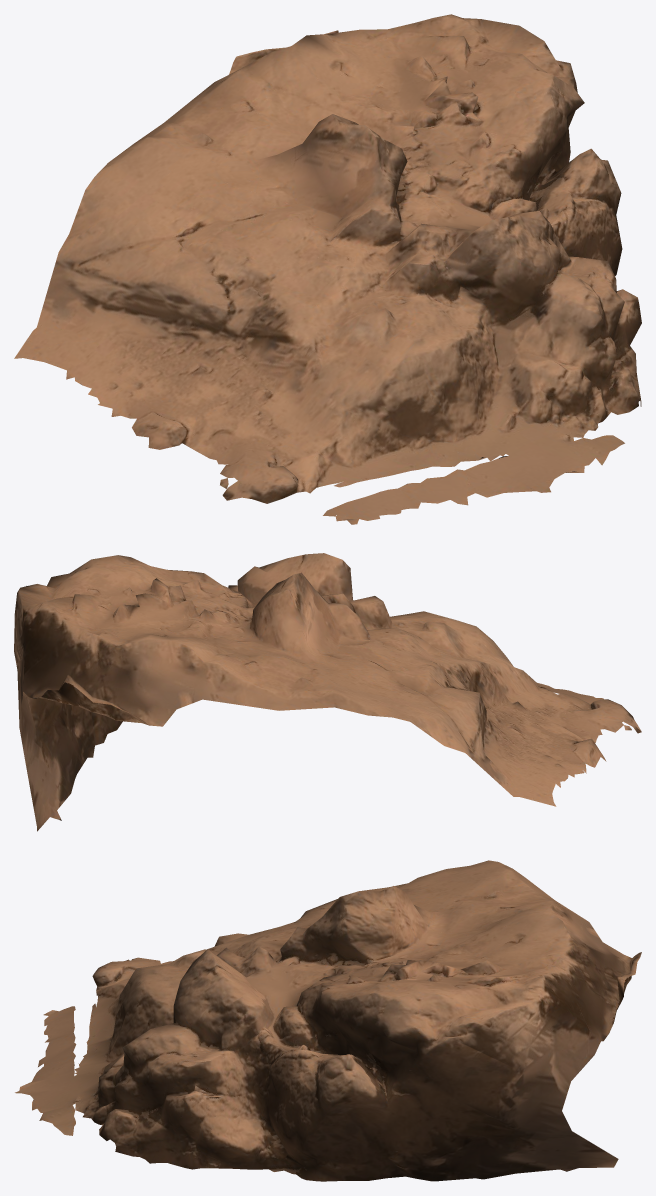
The model's file is mars-rock-meeker-outcrop.glb.
3 renders of one model, top to bottom at view 1: azimuth 30°, elevation 25°; view 2: azimuth 150°, elevation 25°; view 3: azimuth 270°, elevation 25°, orthographic. The views are drawn at different scales.
Parts seen in each view (by area): view 1: mars-rock-meeker-outcrop_LOD0; view 2: mars-rock-meeker-outcrop_LOD0; view 3: mars-rock-meeker-outcrop_LOD0.
Boxes of the visible parts, x1,y1,x2,y2 form: mars-rock-meeker-outcrop_LOD0: (14,14,641,524); mars-rock-meeker-outcrop_LOD0: (14,553,641,831); mars-rock-meeker-outcrop_LOD0: (15,860,641,1181).
Size of what is drawn, in the model's own units: 3.39 by 1.31 by 3.5.
1 material, 1 textured.
